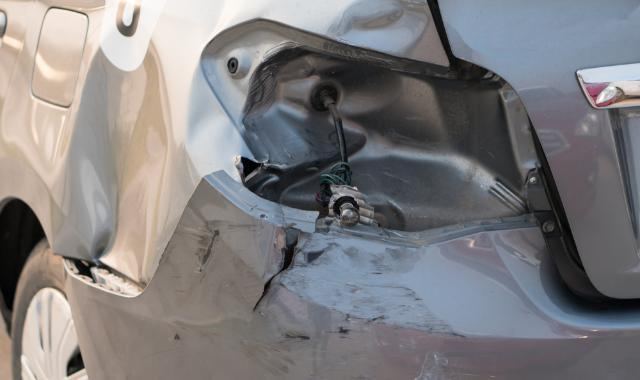crack: (255, 234, 299, 309)
dent: (67, 60, 168, 282), (328, 0, 428, 52)
scratch: (239, 234, 476, 380)
